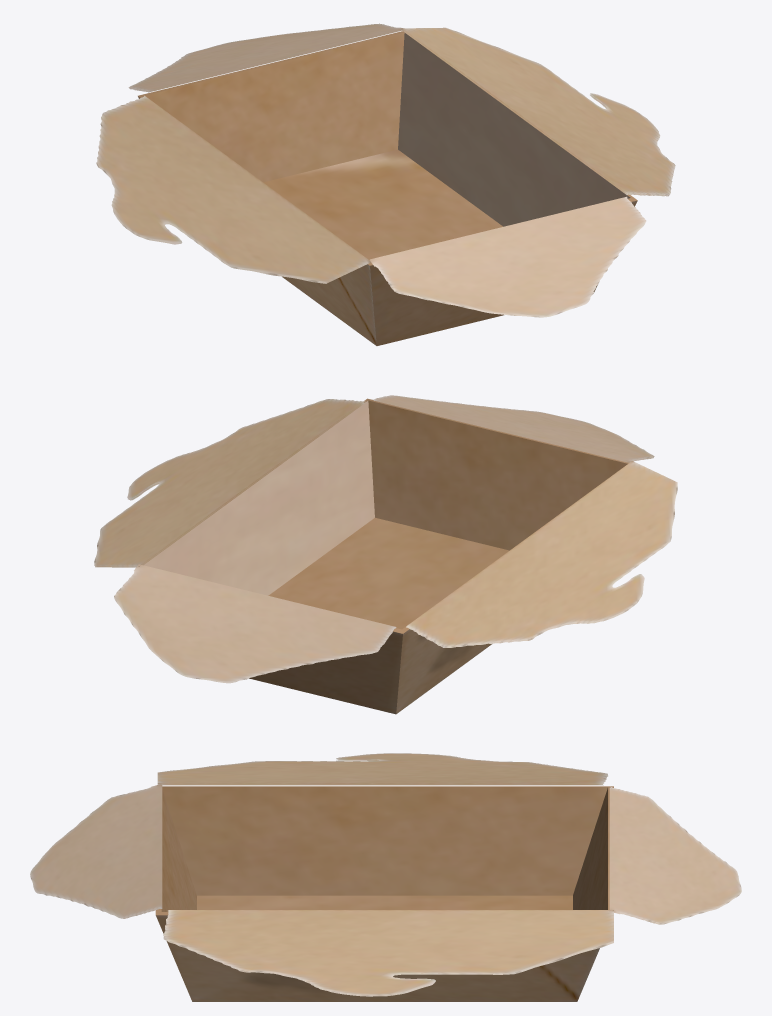
The model's file is combo_box.FBX.
The picture shows the model from 3 angles, top to bottom: view 1: azimuth 30°, elevation 25°; view 2: azimuth 150°, elevation 25°; view 3: azimuth 270°, elevation 25°; orthographic projection.
Visible parts, largest first — view 1: takeaway_box; view 2: takeaway_box; view 3: takeaway_box.
Boxes of the visible parts, box(x1,y1,x2,y2) form: takeaway_box: box(96, 23, 675, 345); takeaway_box: box(94, 395, 677, 714); takeaway_box: box(30, 753, 741, 1001).
Size of the model in its own units: 38.24 by 7.4 by 48.71.
